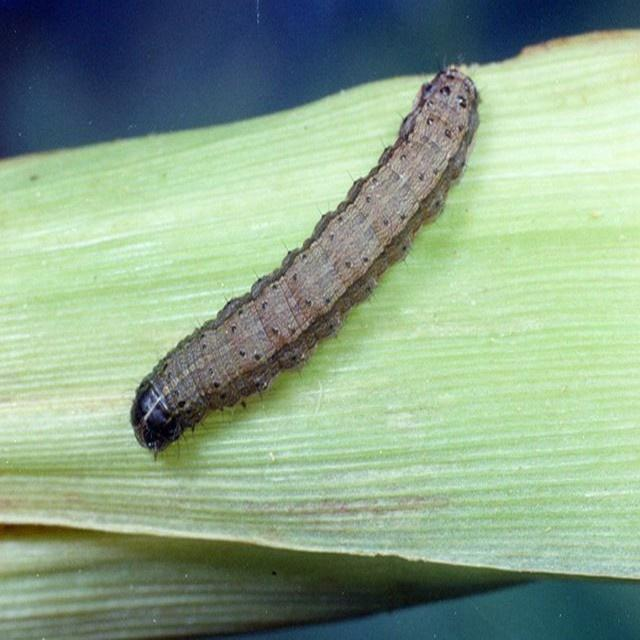gusano_cogollero: (132, 61, 480, 452)
